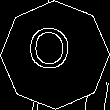O_S: (33, 29, 77, 81)
